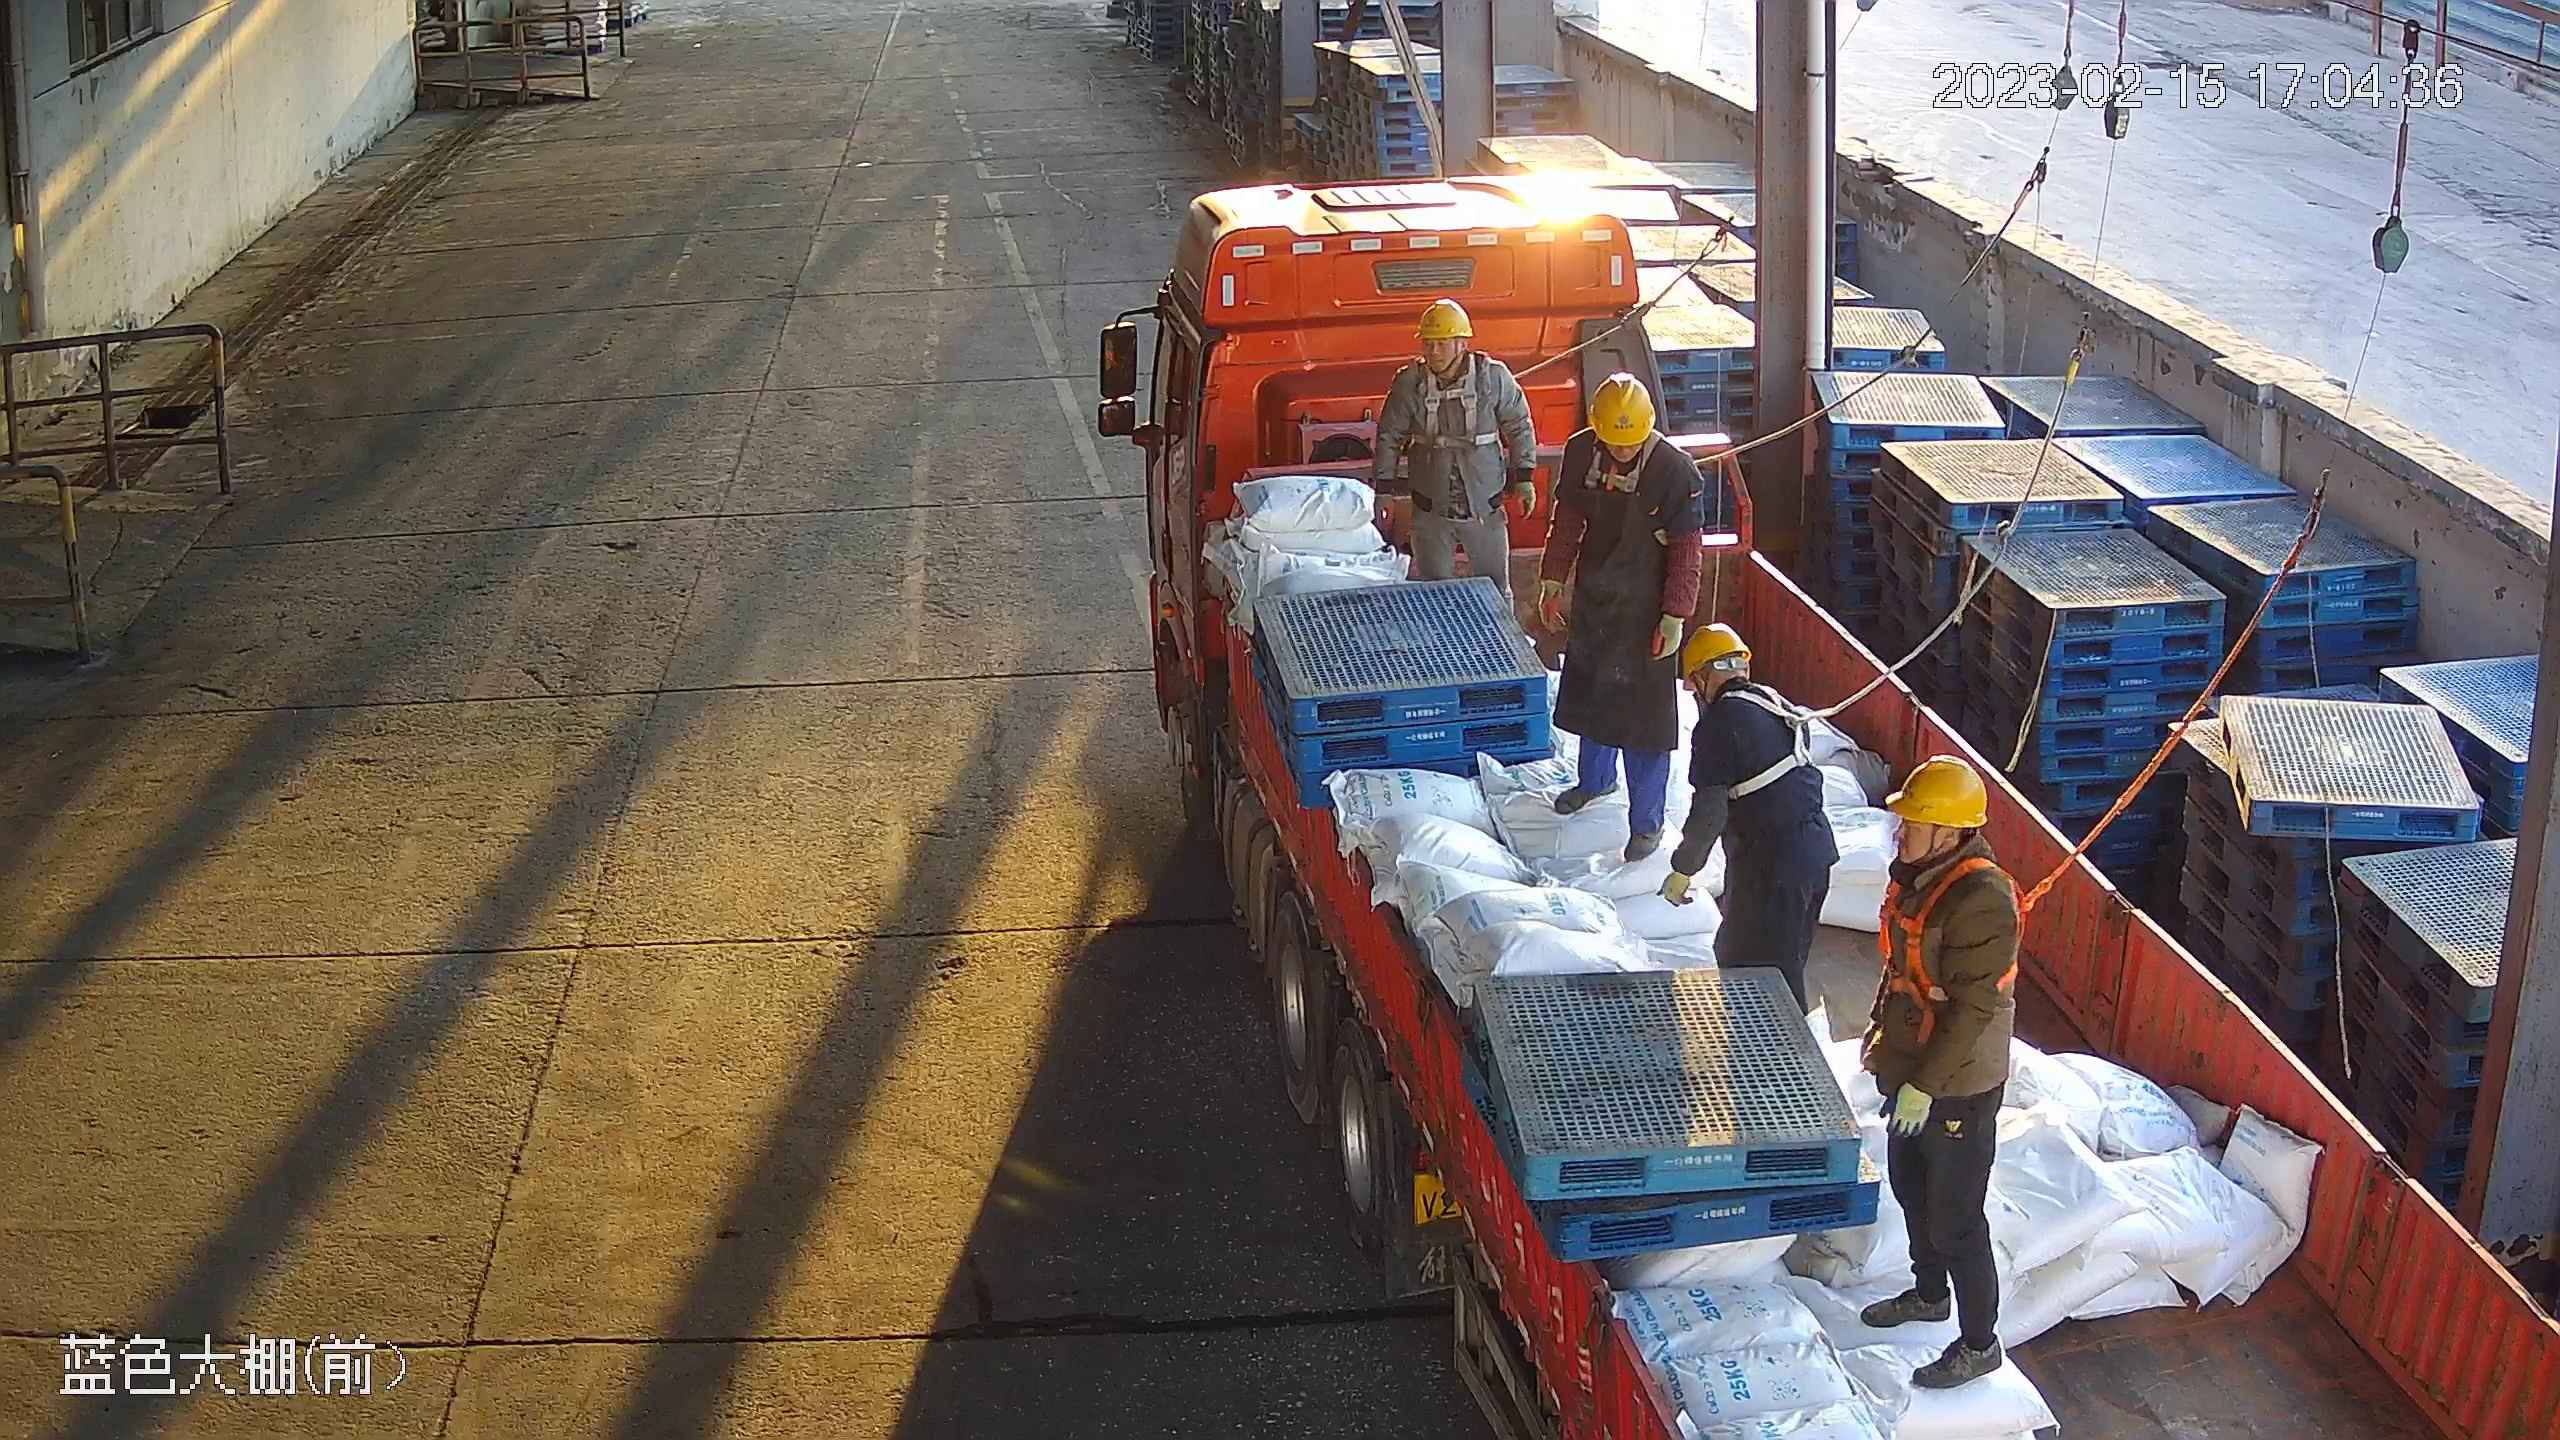belt: (1876, 854, 2052, 1000), (1714, 683, 1834, 801), (1409, 354, 1500, 449), (1584, 433, 1661, 491)
head: (1879, 753, 2025, 922), (1563, 368, 1701, 505), (1683, 624, 1813, 756), (1387, 297, 1513, 408)
helmet: (1883, 754, 1987, 828), (1588, 371, 1655, 446), (1682, 623, 1753, 690), (1413, 297, 1473, 340)
people: (1859, 751, 2026, 1390), (1538, 369, 1706, 862), (1657, 622, 1841, 1009), (1371, 297, 1536, 616)
truck: (1097, 176, 2560, 1440)
